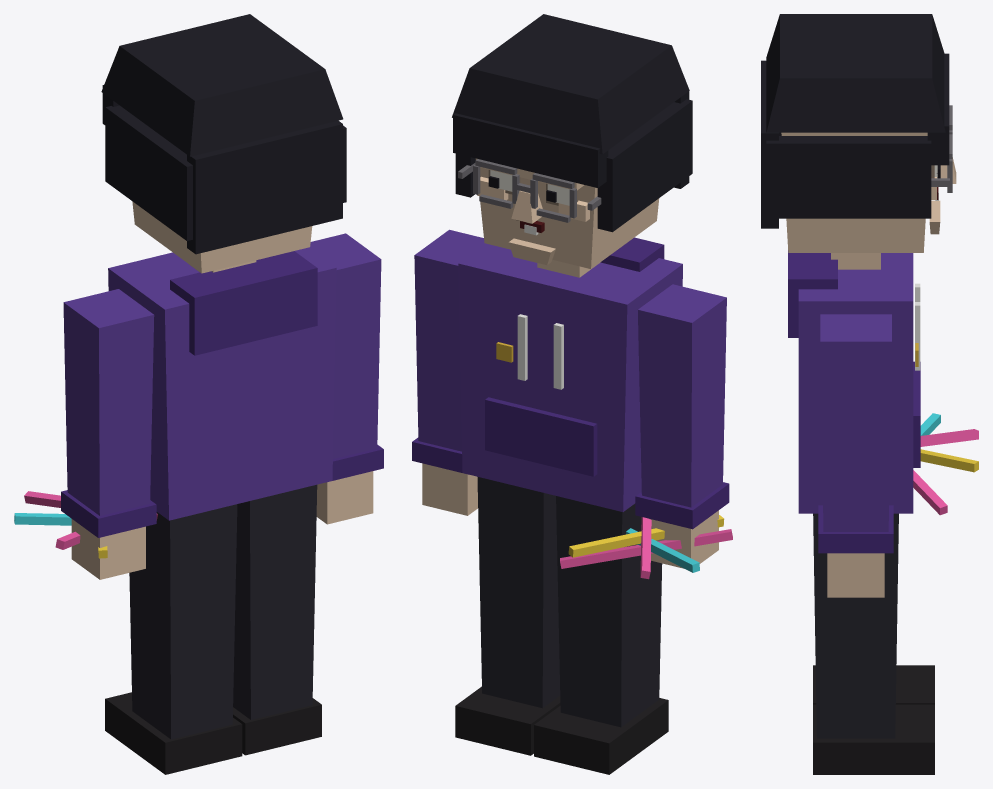
The model's file is goblin.glb.
3 views of the same model, side by side, from view 1: azimuth 30°, elevation 25°; view 2: azimuth 150°, elevation 25°; view 3: azimuth 270°, elevation 25° (orthographic). The views are drawn at different scales.
Visible parts, largest first — view 1: Head, Torso, LegL, ArmL, LegR, ArmR; view 2: Head, Torso, ArmL, LegL, LegR, ArmR; view 3: Head, ArmR, LegR, Torso, ArmL, LegL, NeckMesh.
Boxes of the visible parts, bbox=[...] form: Head: bbox=[101, 14, 346, 273]; Torso: bbox=[108, 247, 336, 520]; LegL: bbox=[105, 504, 242, 774]; ArmL: bbox=[14, 289, 157, 579]; LegR: bbox=[233, 484, 321, 755]; ArmR: bbox=[309, 233, 383, 524]; Head: bbox=[452, 14, 692, 268]; Torso: bbox=[458, 237, 682, 511]; ArmL: bbox=[560, 284, 732, 579]; LegL: bbox=[534, 496, 668, 774]; LegR: bbox=[455, 476, 560, 755]; ArmR: bbox=[412, 229, 485, 515]; Head: bbox=[761, 14, 956, 252]; ArmR: bbox=[818, 314, 893, 597]; LegR: bbox=[813, 513, 934, 774]; Torso: bbox=[788, 250, 920, 513]; ArmL: bbox=[913, 413, 978, 515]; LegL: bbox=[813, 665, 934, 704]; NeckMesh: bbox=[831, 253, 880, 269].
Size of the model in its own units: 1.02 by 2.13 by 0.6078.
